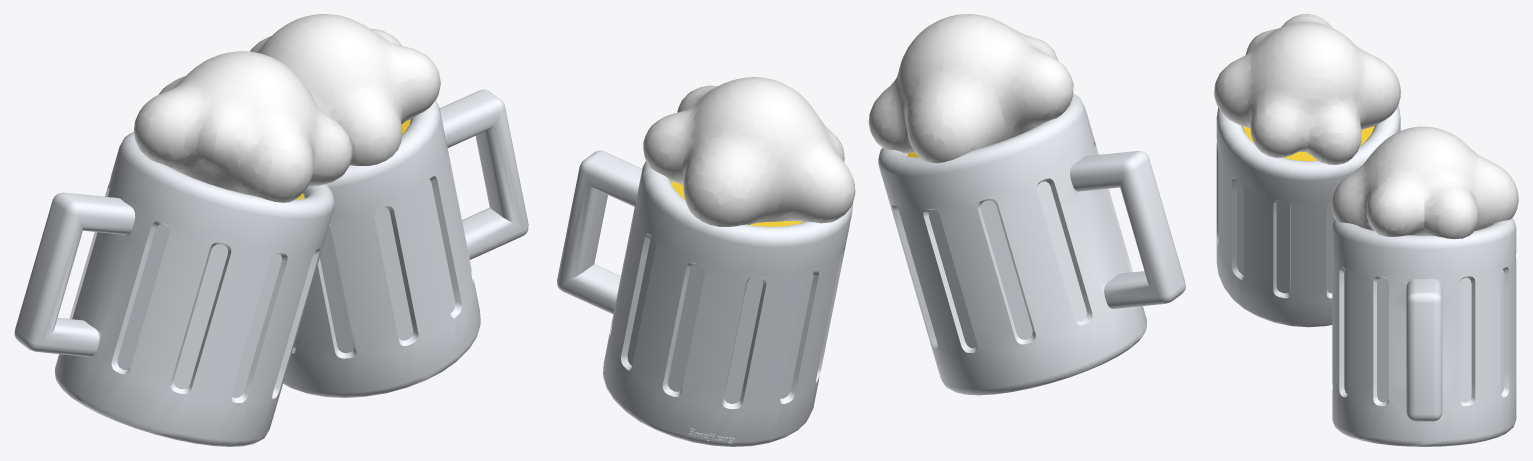
File: clinking_beer_mugs.fbx
3 renders of one model, left to right at view 1: azimuth 30°, elevation 25°; view 2: azimuth 150°, elevation 25°; view 3: azimuth 270°, elevation 25°, orthographic. The views are drawn at different scales.
Visible parts, largest first — view 1: Circle.2321; view 2: Circle.2321; view 3: Circle.2321.
Boxes of the visible parts, left/top/right/bottom form: Circle.2321: left=14, top=14, right=528, bottom=446; Circle.2321: left=557, top=14, right=1185, bottom=446; Circle.2321: left=1214, top=14, right=1518, bottom=446.
Size of the model in its own units: 236 by 159 by 132.
Materials: 2 (1 with a texture image).
